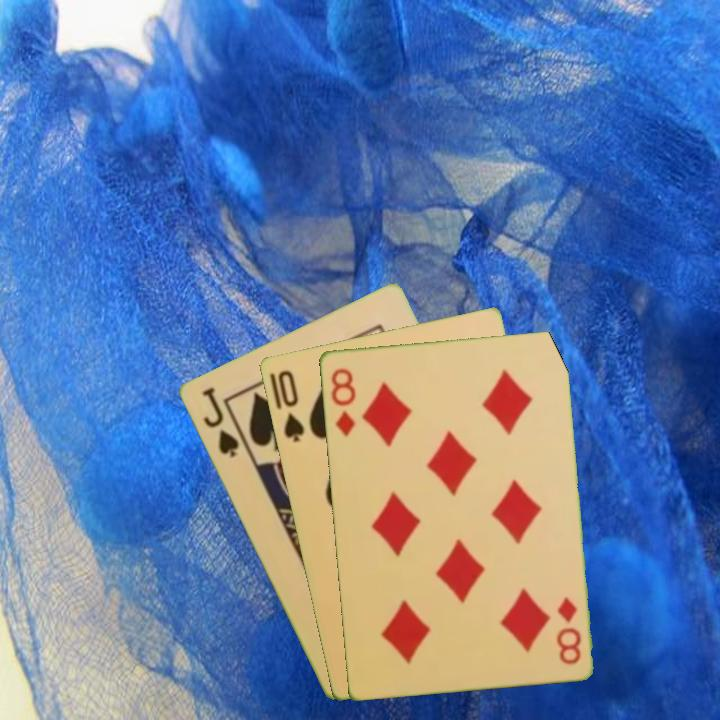10s: (274, 366, 307, 445)
8d: (327, 364, 358, 439), (553, 593, 584, 667)
Js: (198, 383, 242, 461)
